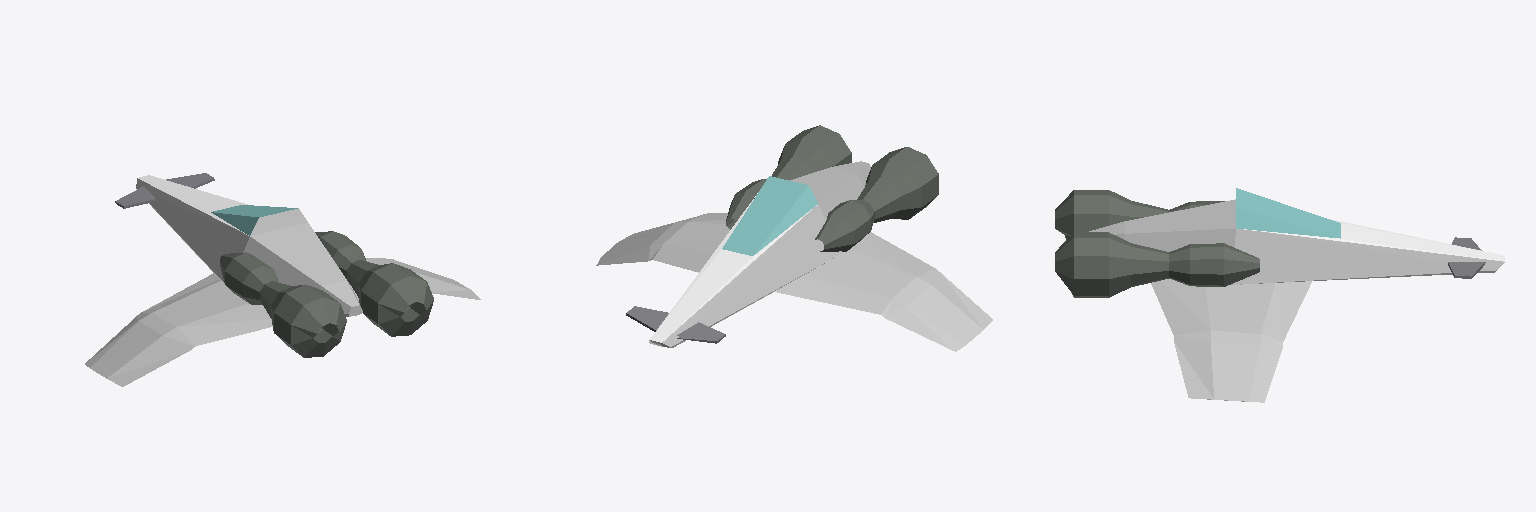
Rendered from fighter_fixed.obj.
3 renders of one model, left to right at view 1: azimuth 30°, elevation 25°; view 2: azimuth 150°, elevation 25°; view 3: azimuth 270°, elevation 25°, orthographic.
Visible parts, largest first — view 1: g_XOBJ.001_g_XOBJ.001, g_XOBJ_canopy, g_XOBJ.003_g_XOBJ.005, g_XOBJ.002_canard; view 2: g_XOBJ.003_g_XOBJ.005, g_XOBJ_canopy, g_XOBJ.001_g_XOBJ.001, g_XOBJ.002_canard; view 3: g_XOBJ_canopy, g_XOBJ.003_g_XOBJ.005, g_XOBJ.001_g_XOBJ.001, g_XOBJ.002_canard.
Part boxes in pixels (left/top/right/bottom): g_XOBJ.001_g_XOBJ.001: left=220, top=231, right=433, bottom=357; g_XOBJ_canopy: left=136, top=175, right=362, bottom=316; g_XOBJ.003_g_XOBJ.005: left=85, top=258, right=480, bottom=386; g_XOBJ.002_canard: left=115, top=173, right=214, bottom=208; g_XOBJ.003_g_XOBJ.005: left=596, top=213, right=992, bottom=351; g_XOBJ_canopy: left=649, top=161, right=870, bottom=347; g_XOBJ.001_g_XOBJ.001: left=726, top=125, right=938, bottom=251; g_XOBJ.002_canard: left=626, top=306, right=725, bottom=343; g_XOBJ_canopy: left=1089, top=188, right=1504, bottom=284; g_XOBJ.003_g_XOBJ.005: left=1151, top=279, right=1311, bottom=402; g_XOBJ.001_g_XOBJ.001: left=1055, top=190, right=1259, bottom=297; g_XOBJ.002_canard: left=1448, top=237, right=1485, bottom=278.
Size of the model in its own units: 12.95 by 4.01 by 13.84.